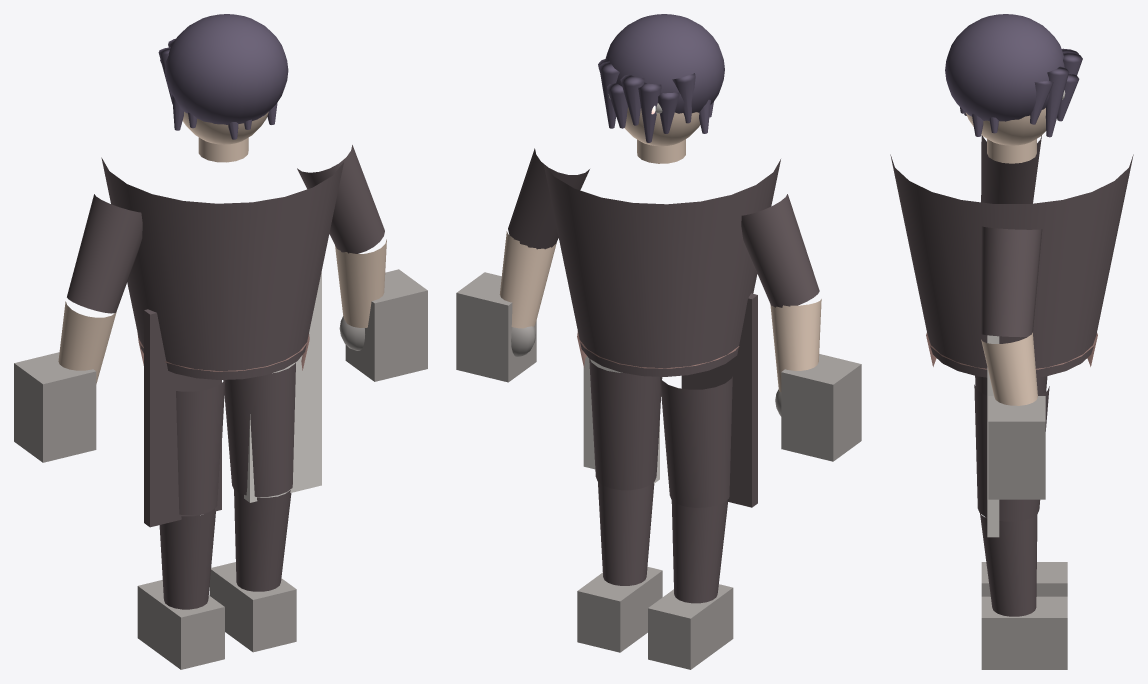
File: kampta-procedural-v1.glb
3 renders of one model, left to right at view 1: azimuth 30°, elevation 25°; view 2: azimuth 150°, elevation 25°; view 3: azimuth 270°, elevation 25°, orthographic. The views are drawn at different scales.
Parts seen in each view (by area): view 1: Outfit_Torso, Hair_Cap, Body_Thigh_R, Weapon_Gauntlet_L, Outfit_CoatTail_L, Weapon_Gauntlet_R, Body_UpperArm_L, Body_Thigh_L, Outfit_Boot_L, Outfit_CoatTail_R, Outfit_Boot_R, Body_Shin_R (+6 smaller); view 2: Outfit_Torso, Body_Thigh_L, Body_Thigh_R, Hair_Cap, Weapon_Gauntlet_L, Outfit_CoatTail_L, Weapon_Gauntlet_R, Body_UpperArm_L, Outfit_Boot_L, Outfit_Boot_R, Body_Shin_R, Body_Shin_L (+11 smaller); view 3: Outfit_Torso, Hair_Cap, Body_UpperArm_R, Weapon_Gauntlet_R, Outfit_Boot_R, Body_Shin_R, Body_Forearm_R, Body_UpperArm_L, Body_Thigh_R, Body_Head, Outfit_Boot_L, Outfit_CoatTail_R (+6 smaller).
Part boxes in pixels (left/top/right/bottom): Outfit_Torso: left=101, top=157, right=343, bottom=379; Hair_Cap: left=165, top=14, right=288, bottom=124; Body_Thigh_R: left=223, top=362, right=295, bottom=496; Weapon_Gauntlet_L: left=14, top=352, right=96, bottom=462; Outfit_CoatTail_L: left=144, top=309, right=221, bottom=527; Weapon_Gauntlet_R: left=345, top=269, right=427, bottom=381; Body_UpperArm_L: left=67, top=194, right=142, bottom=313; Body_Thigh_L: left=176, top=380, right=225, bottom=514; Outfit_Boot_L: left=137, top=580, right=224, bottom=669; Outfit_CoatTail_R: left=244, top=272, right=321, bottom=502; Outfit_Boot_R: left=209, top=562, right=296, bottom=652; Body_Shin_R: left=234, top=490, right=291, bottom=591; Outfit_Torso: left=543, top=159, right=780, bottom=376; Body_Thigh_L: left=660, top=376, right=732, bottom=507; Body_Thigh_R: left=589, top=358, right=662, bottom=490; Hair_Cap: left=605, top=14, right=724, bottom=113; Weapon_Gauntlet_L: left=781, top=354, right=861, bottom=461; Outfit_CoatTail_L: left=681, top=293, right=757, bottom=507; Weapon_Gauntlet_R: left=456, top=272, right=536, bottom=382; Body_UpperArm_L: left=741, top=194, right=819, bottom=307; Outfit_Boot_L: left=648, top=584, right=733, bottom=669; Outfit_Boot_R: left=577, top=566, right=662, bottom=652; Body_Shin_R: left=598, top=482, right=654, bottom=585; Body_Shin_L: left=671, top=500, right=727, bottom=603; Outfit_Torso: left=890, top=154, right=1133, bottom=377; Hair_Cap: left=945, top=14, right=1064, bottom=121; Body_UpperArm_R: left=981, top=226, right=1042, bottom=337; Weapon_Gauntlet_R: left=988, top=396, right=1045, bottom=499; Outfit_Boot_R: left=981, top=596, right=1067, bottom=669; Body_Shin_R: left=980, top=513, right=1037, bottom=616; Body_Forearm_R: left=981, top=332, right=1037, bottom=405; Body_UpperArm_L: left=981, top=135, right=1041, bottom=203; Body_Thigh_R: left=974, top=384, right=1049, bottom=521; Body_Head: left=965, top=108, right=1046, bottom=145; Outfit_Boot_L: left=981, top=562, right=1067, bottom=596; Outfit_CoatTail_R: left=987, top=335, right=999, bottom=537.
Size of the model in its own units: 1.29 by 2.01 by 0.7144.
